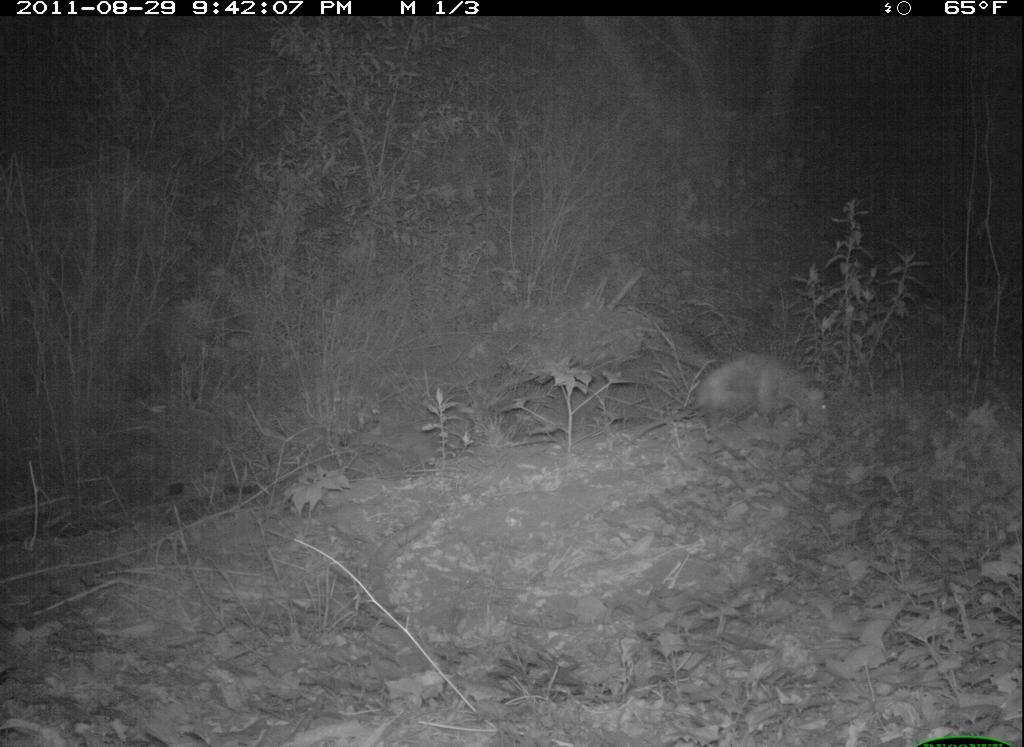opossum: (678, 340, 854, 443)
